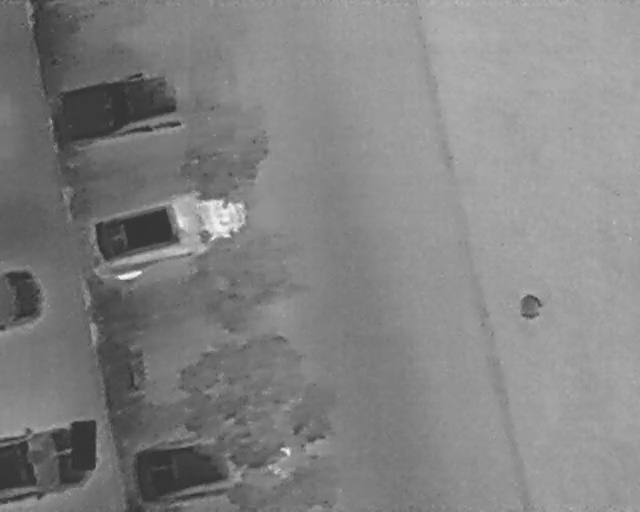Car: (75, 174, 266, 291), (122, 412, 308, 510), (41, 66, 202, 156), (0, 425, 94, 504), (0, 266, 46, 331)
